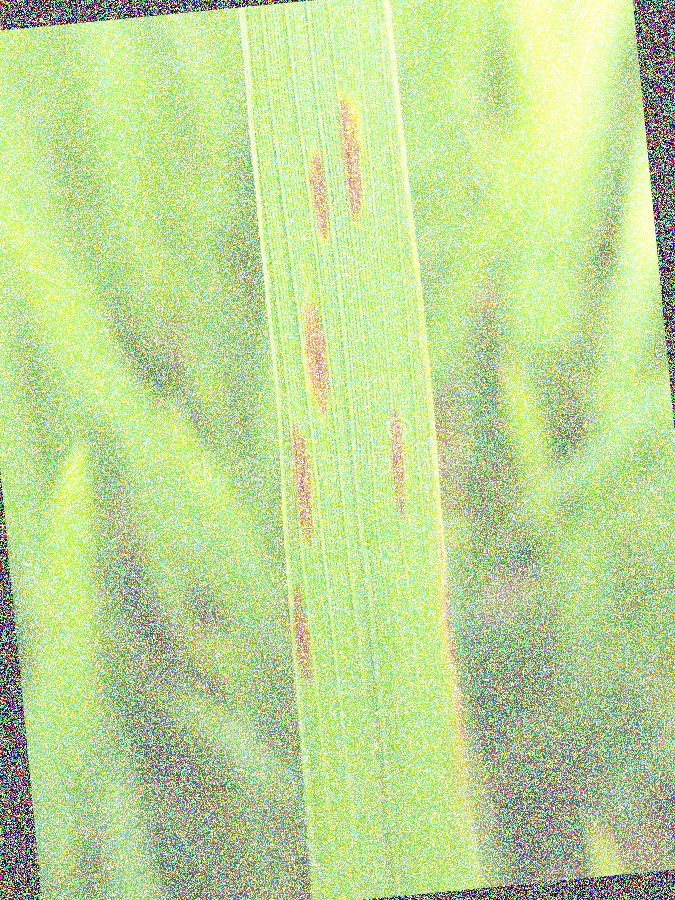Bacterial_Leaf_Blight: (267, 414, 336, 544), (324, 81, 371, 226), (269, 578, 327, 687), (378, 397, 419, 532), (291, 292, 336, 413), (303, 150, 330, 249)
